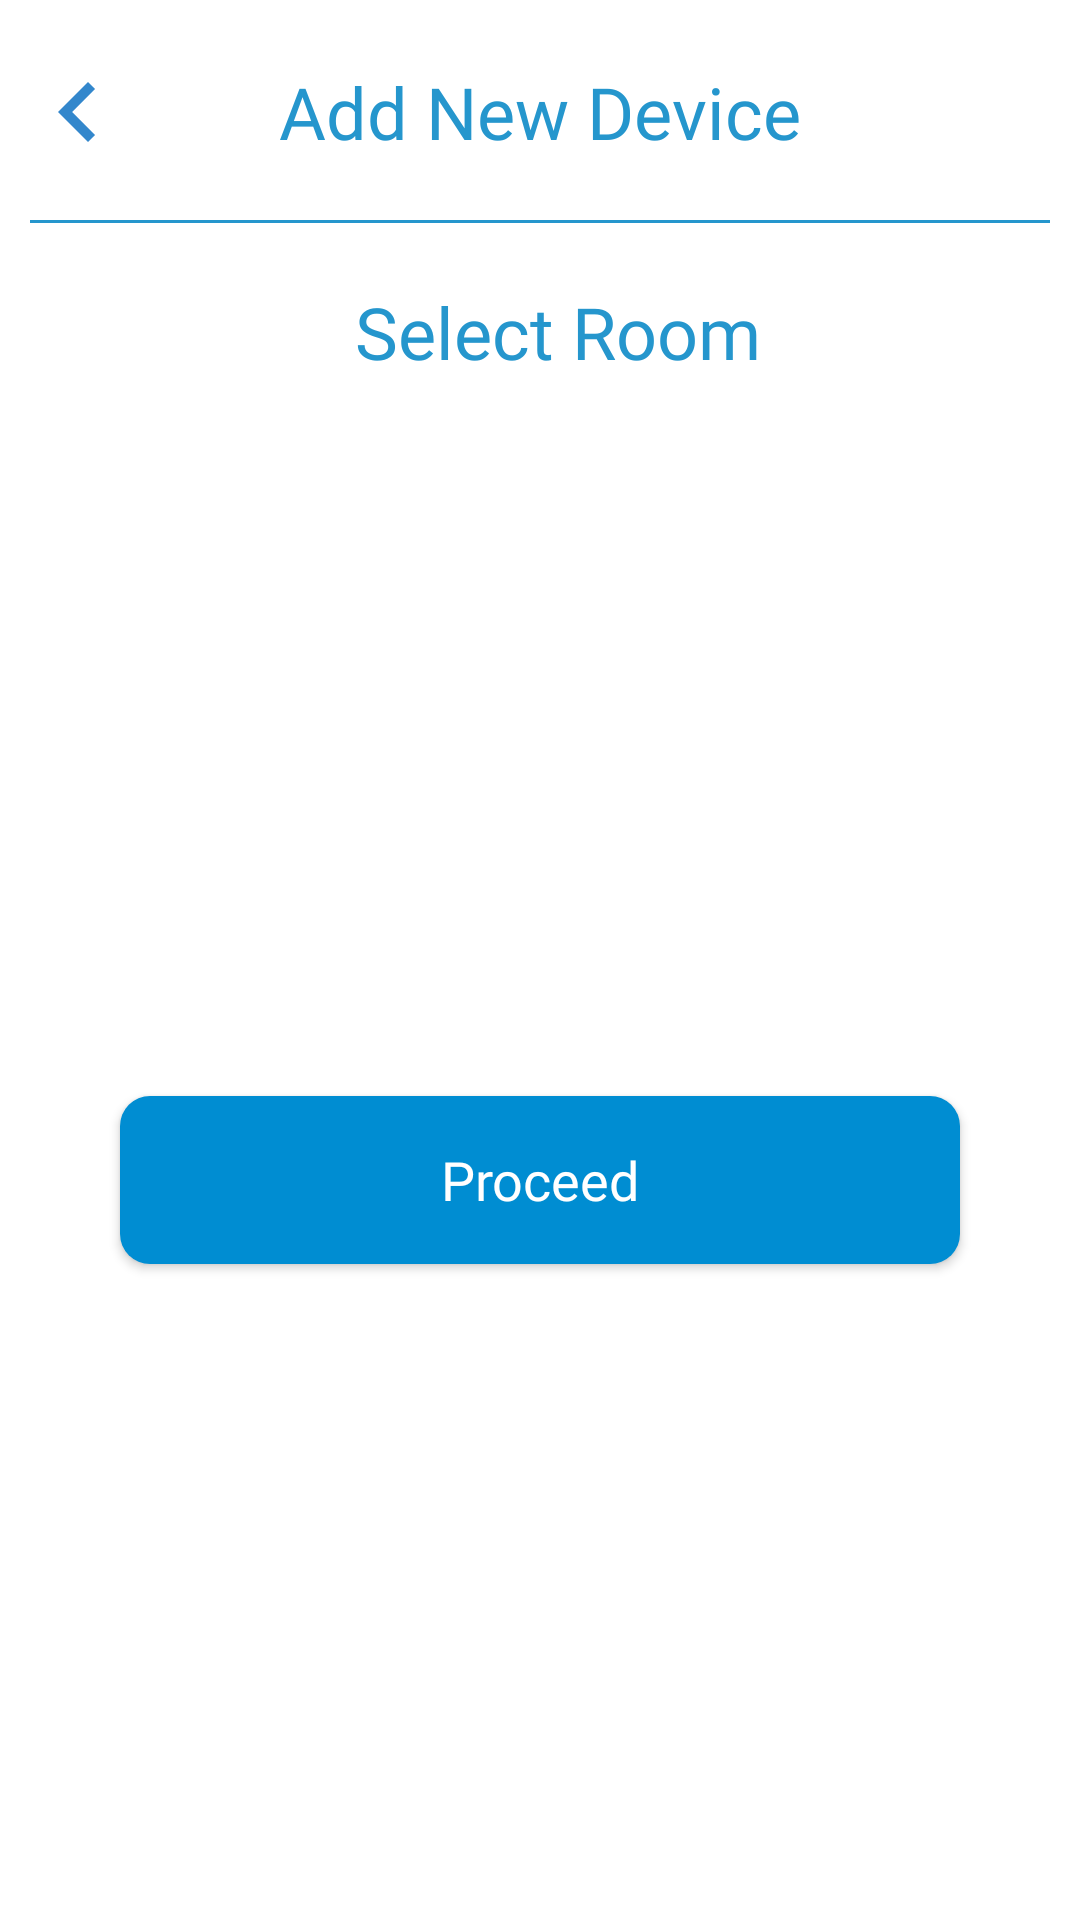

Locate icon controls on the screen. Image size 1080w x 1920h, boxes as detection(x1, y1, x2, y2).
left arrow: detection(58, 82, 95, 142)
